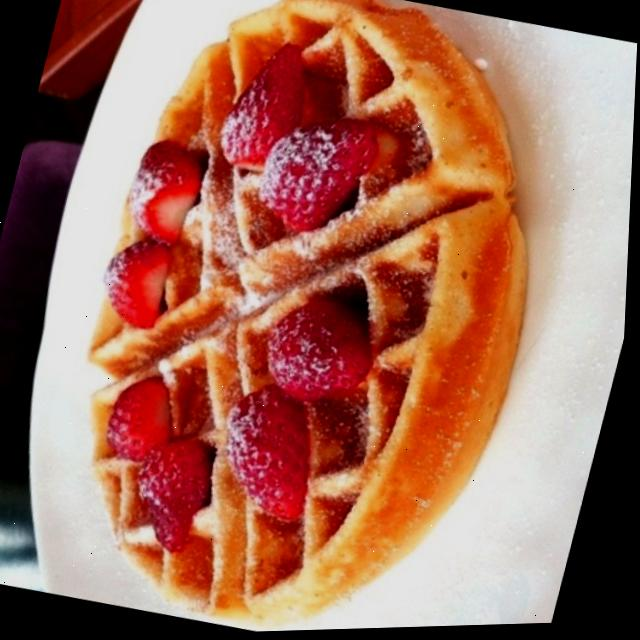炸货点心: (39, 0, 599, 639)
蛋糕甜品: (39, 0, 599, 639)
